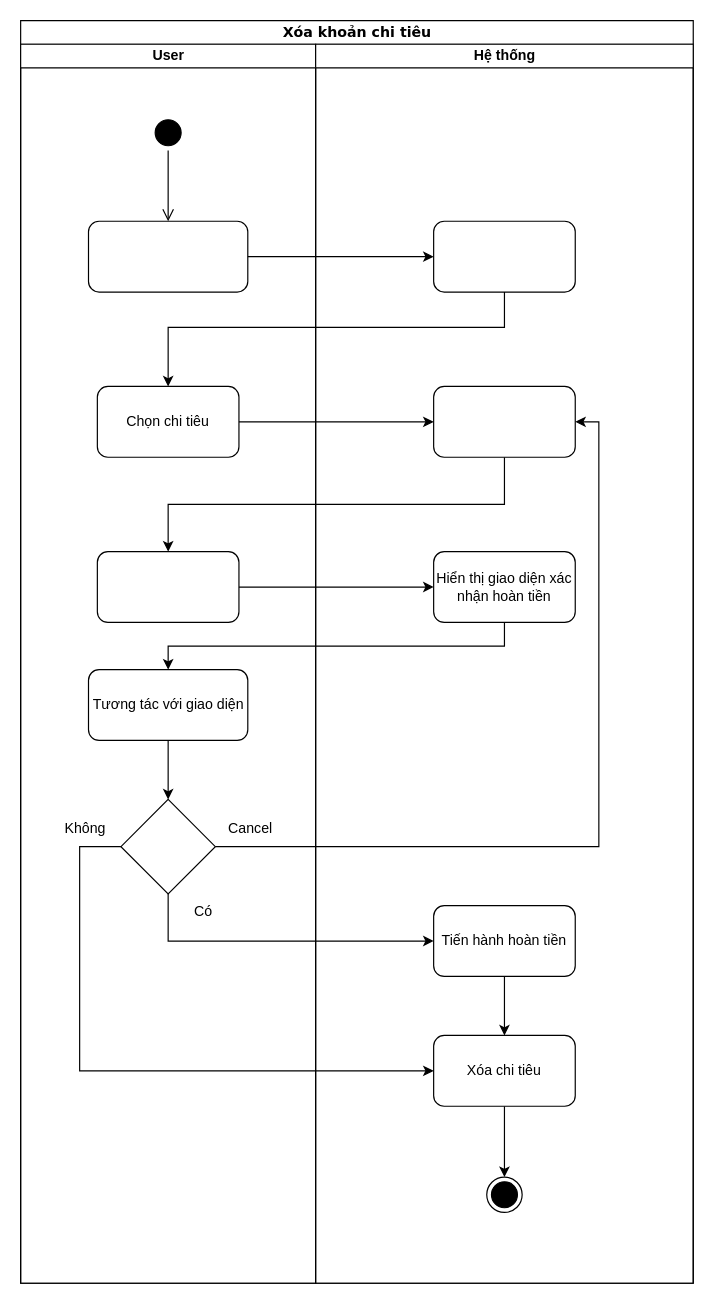
Some shapes in this 714 by 1304 pixel diagram are drawn without their labels. The shapes that lost their labels are listed below. From the top down, each one's centre as x and y in pixels, then its label:
pixel 167 256: Chọn "Lịch sử chi tiêu"
pixel 503 256: Hiển thị giao diện lịch sử chi tiêu
pixel 503 421: Hiển thị giao diện chi tiết chi tiêu
pixel 167 586: Chọn icon thùng rác
